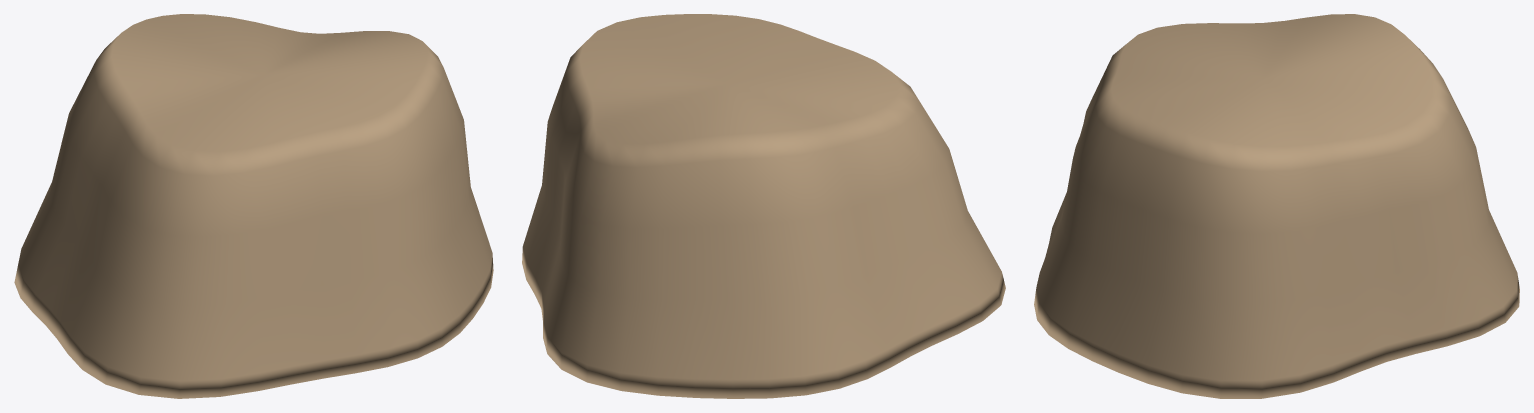
The model's file is TitleCliff.obj.
The picture shows the model from 3 angles, left to right: view 1: azimuth 30°, elevation 25°; view 2: azimuth 150°, elevation 25°; view 3: azimuth 270°, elevation 25°; orthographic projection. The views are drawn at different scales.
Parts seen in each view (by area): view 1: TitleCliff; view 2: TitleCliff; view 3: TitleCliff.
Part boxes in pixels (<box>): TitleCliff: <box>14,14,493,398</box>; TitleCliff: <box>522,14,1005,398</box>; TitleCliff: <box>1034,14,1519,398</box>.
Size of the model in its own units: 2.06 by 1.07 by 2.01.
1 material, 1 textured.
